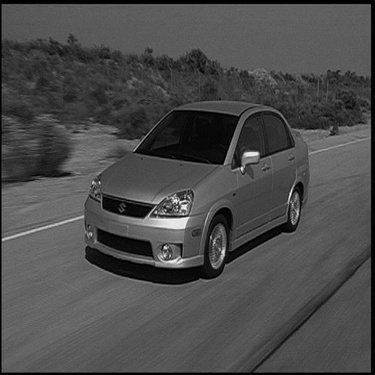car: (77, 92, 313, 289)
